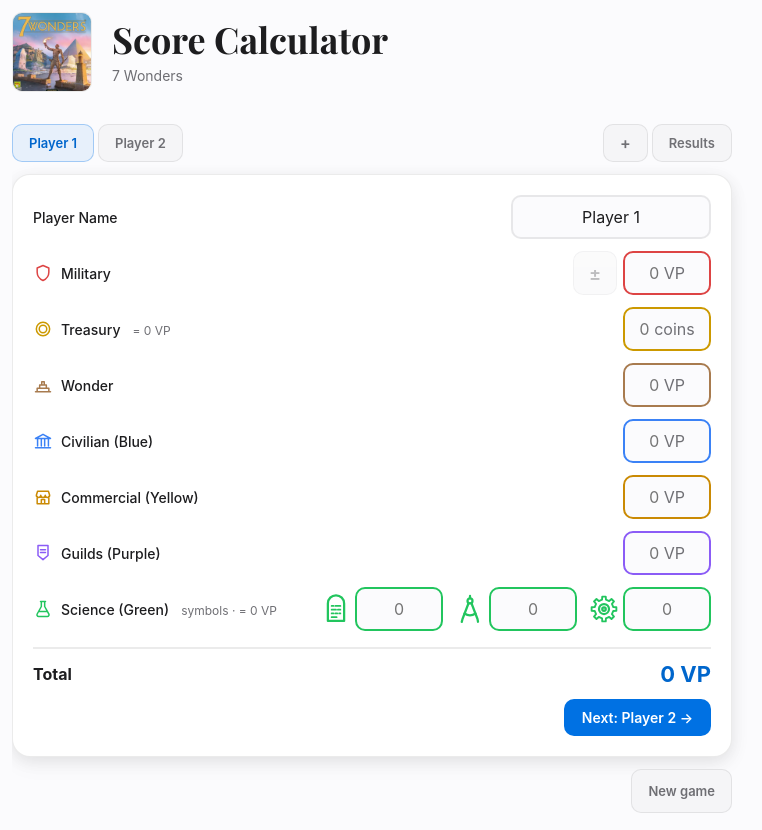
it: ScoreCalculatorPage › shows treasury's VP note from the start, so the first coin moves nothing
Expected: the element labelled "Treasury = 0 VP coins" is shown, [33,307,711,351]
Expected: the text "= 0 VP" next to "Treasury" is shown, [132,322,171,338]
Type "9" into the number field labelled "Treasury = 0 VP". click: [644, 329]
box: [543,309,746,349]
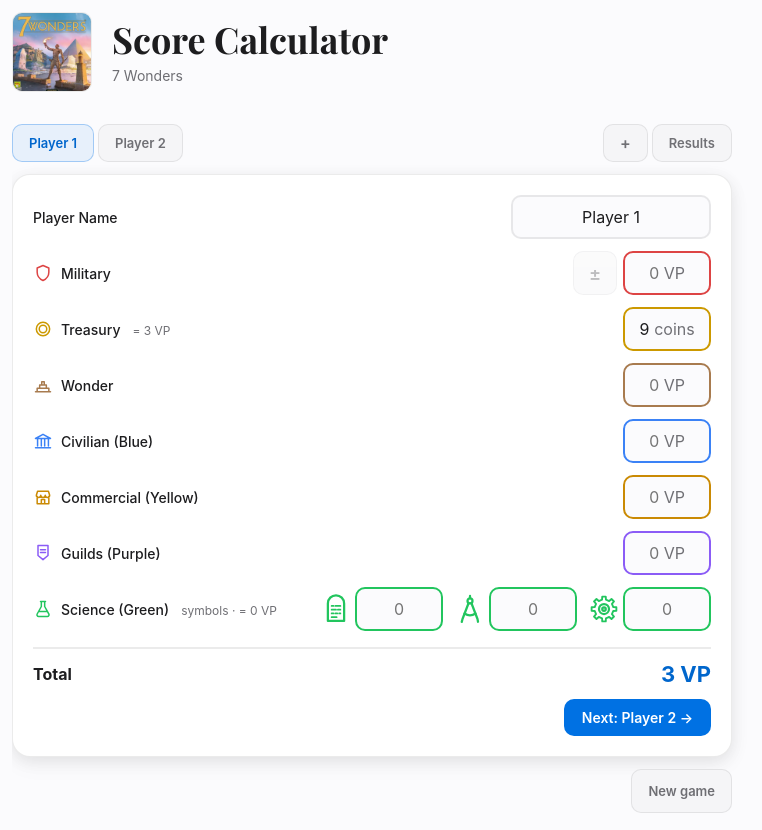
Expected: the text "= 3 VP" is shown, [132,322,171,338]
